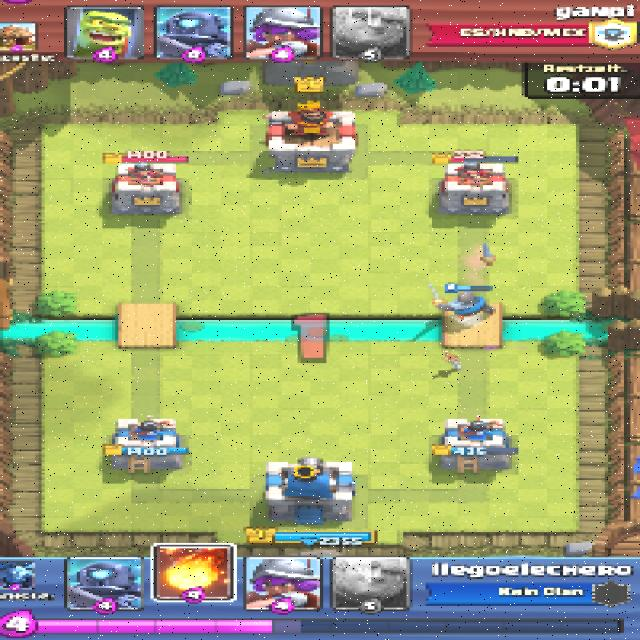Player-Knight: (427, 290, 494, 320)
